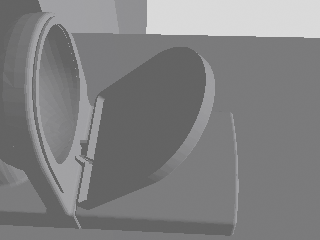lid_1: (77, 47, 214, 209)
